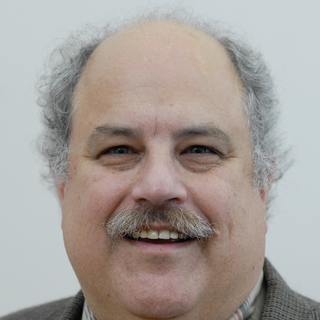eye: (172, 141, 233, 168), (93, 140, 148, 169)
